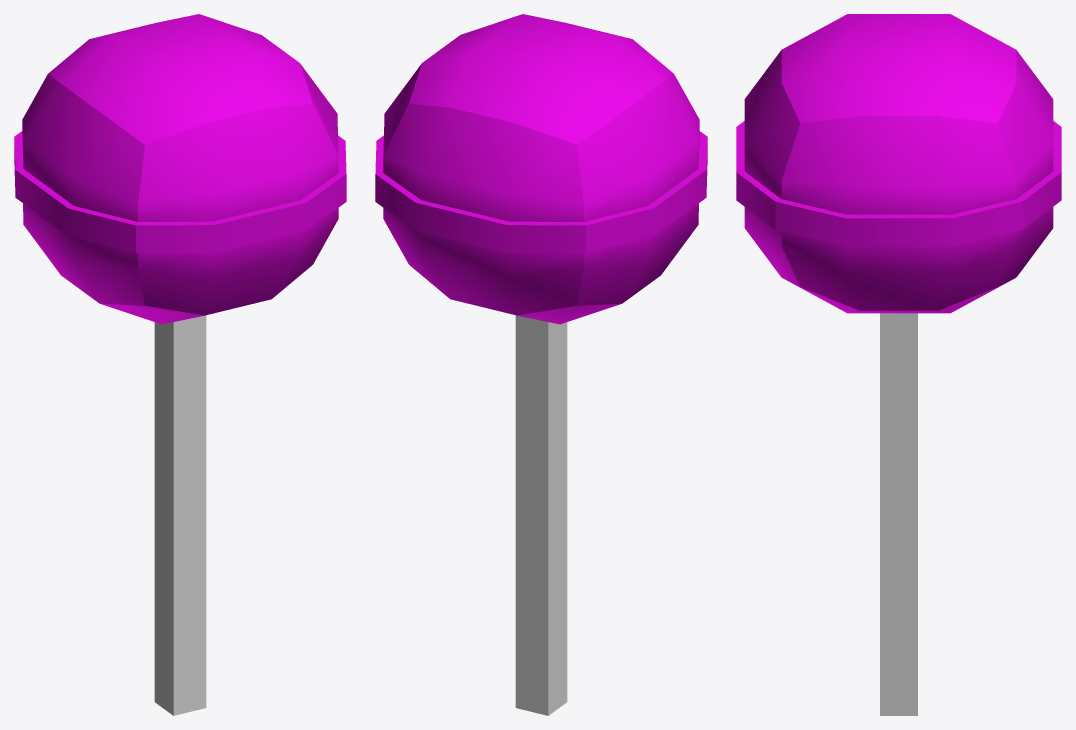
File: Sucette.fbx
3 views of the same model, side by side, from view 1: azimuth 30°, elevation 25°; view 2: azimuth 150°, elevation 25°; view 3: azimuth 270°, elevation 25° (orthographic).
Parts seen in each view (by area): view 1: Mouton3D:pCube1; view 2: Mouton3D:pCube1; view 3: Mouton3D:pCube1.
Part boxes in pixels (<box>): Mouton3D:pCube1: <box>14,14,346,715</box>; Mouton3D:pCube1: <box>375,14,707,715</box>; Mouton3D:pCube1: <box>736,14,1061,715</box>.
Size of the model in its own units: 2.1 by 4.78 by 2.1.
